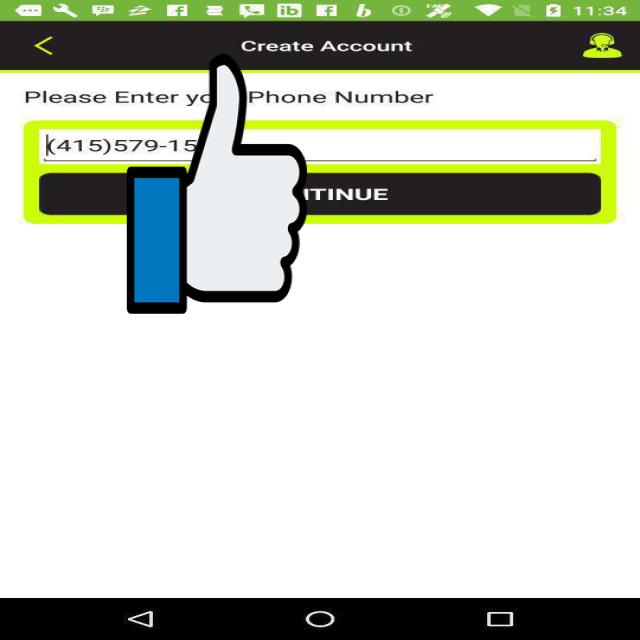privacy zuckering: (127, 48, 307, 319)
